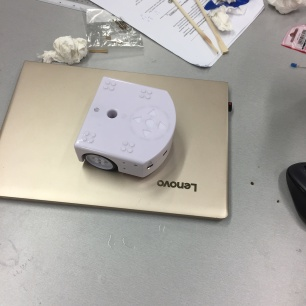thymio: (72, 73, 179, 181)
